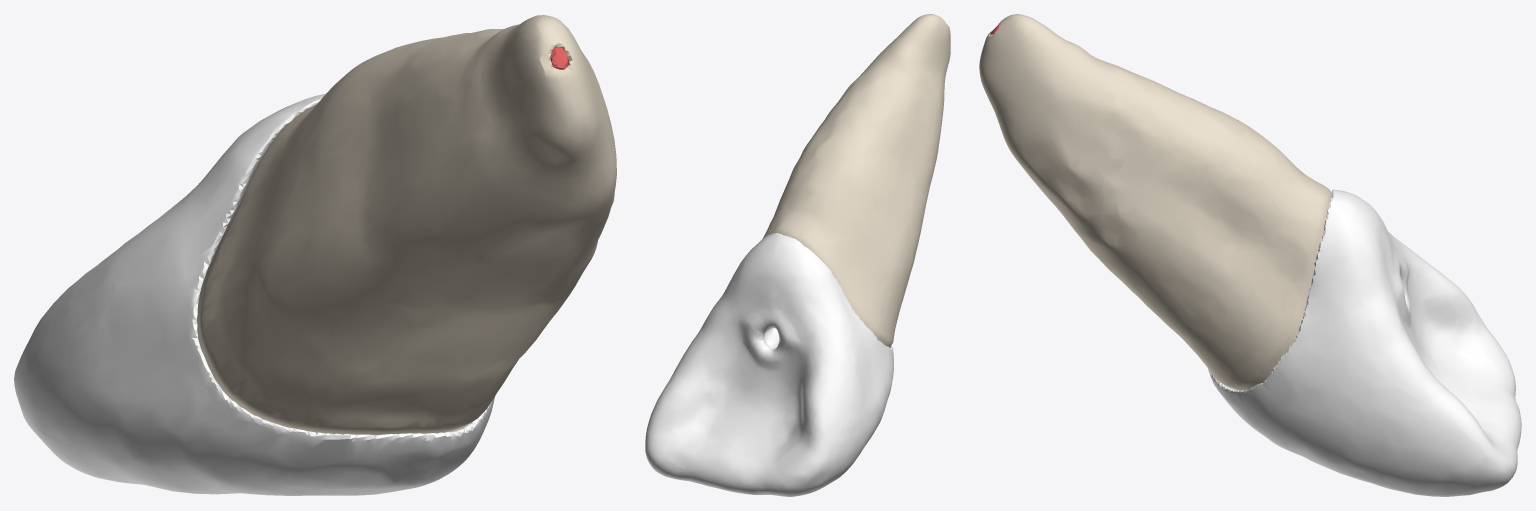
File: 牙内陷1.fbx
3 renders of one model, left to right at view 1: azimuth 30°, elevation 25°; view 2: azimuth 150°, elevation 25°; view 3: azimuth 270°, elevation 25°, orthographic. The views are drawn at different scales.
Parts seen in each view (by area): view 1: texture_B, texture_W; view 2: texture_W, texture_B; view 3: texture_B, texture_W.
Boxes of the visible parts, left/top/right/bottom form: texture_B: left=197, top=15, right=616, bottom=434; texture_W: left=14, top=94, right=494, bottom=495; texture_W: left=645, top=233, right=893, bottom=496; texture_B: left=762, top=14, right=950, bottom=347; texture_B: left=979, top=14, right=1331, bottom=390; texture_W: left=1208, top=189, right=1521, bottom=496.
Bounding box in the file's own units: 12 × 20.86 × 23.58.
Materials: 3 (3 with a texture image).
